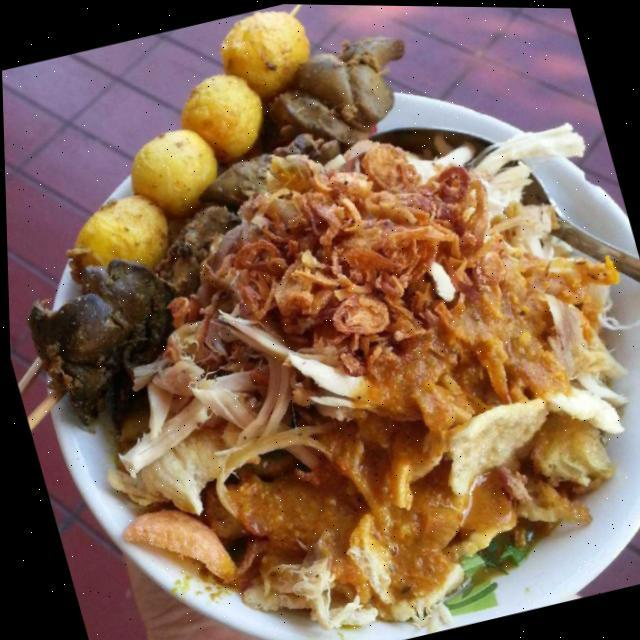bubur ayam: (35, 81, 640, 640)
mangkuk: (1, 40, 640, 640)
